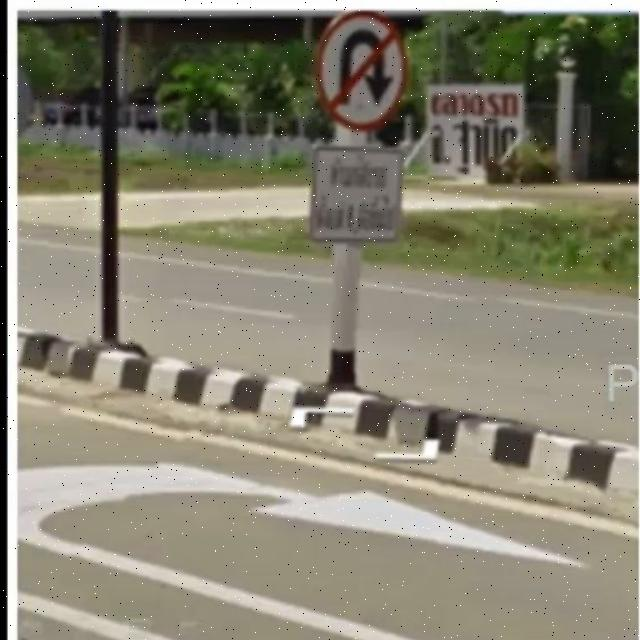no_uturn: (318, 13, 409, 126)
